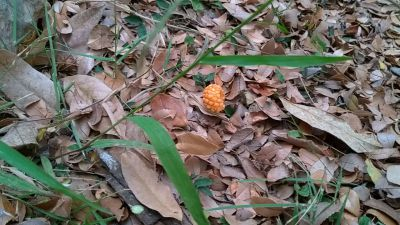eggs: (200, 80, 229, 115)
